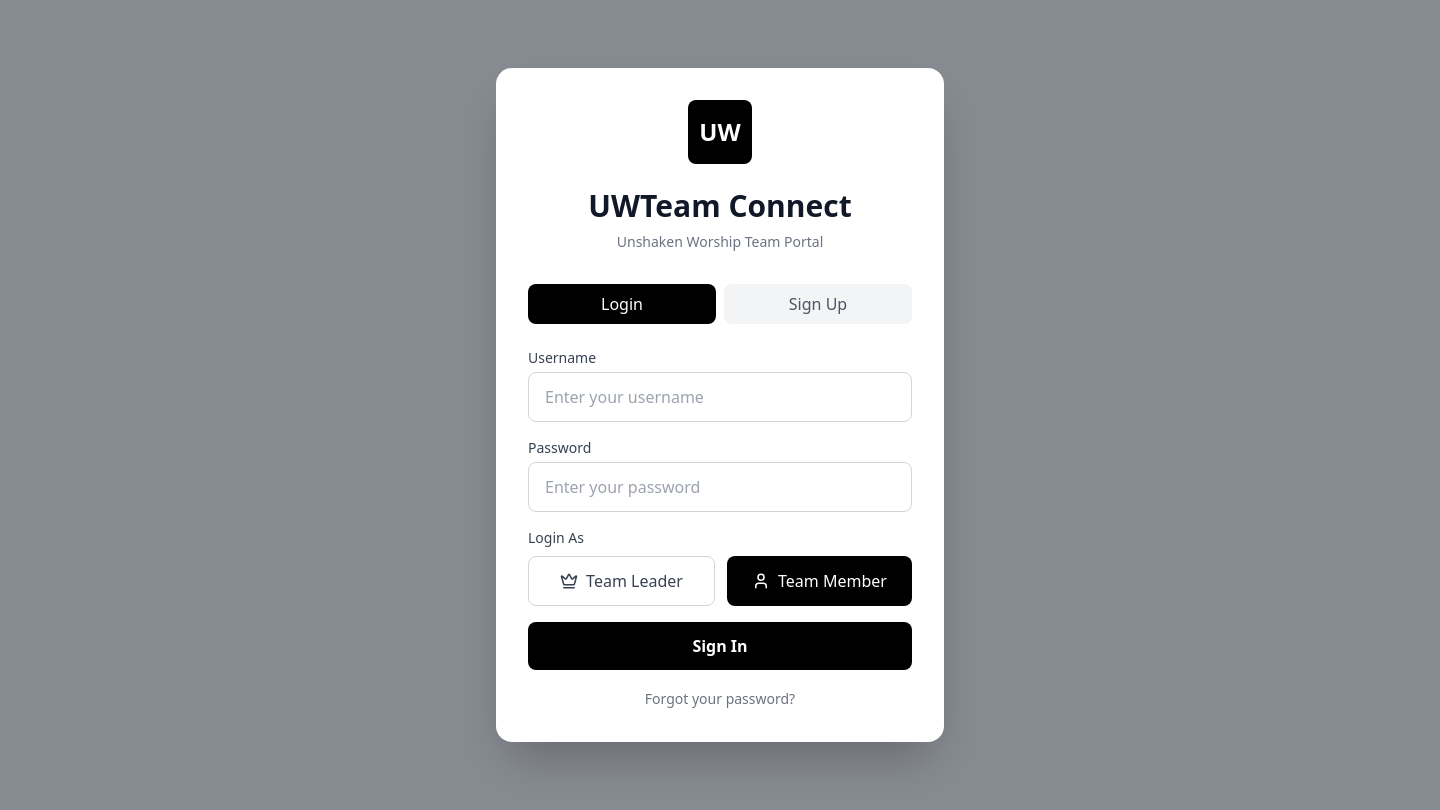
Test case: Login component – tab switching › switches to Create Account button when Sign Up tab is clicked
Click the button "Sign Up": (818, 304) [724,284,912,324]
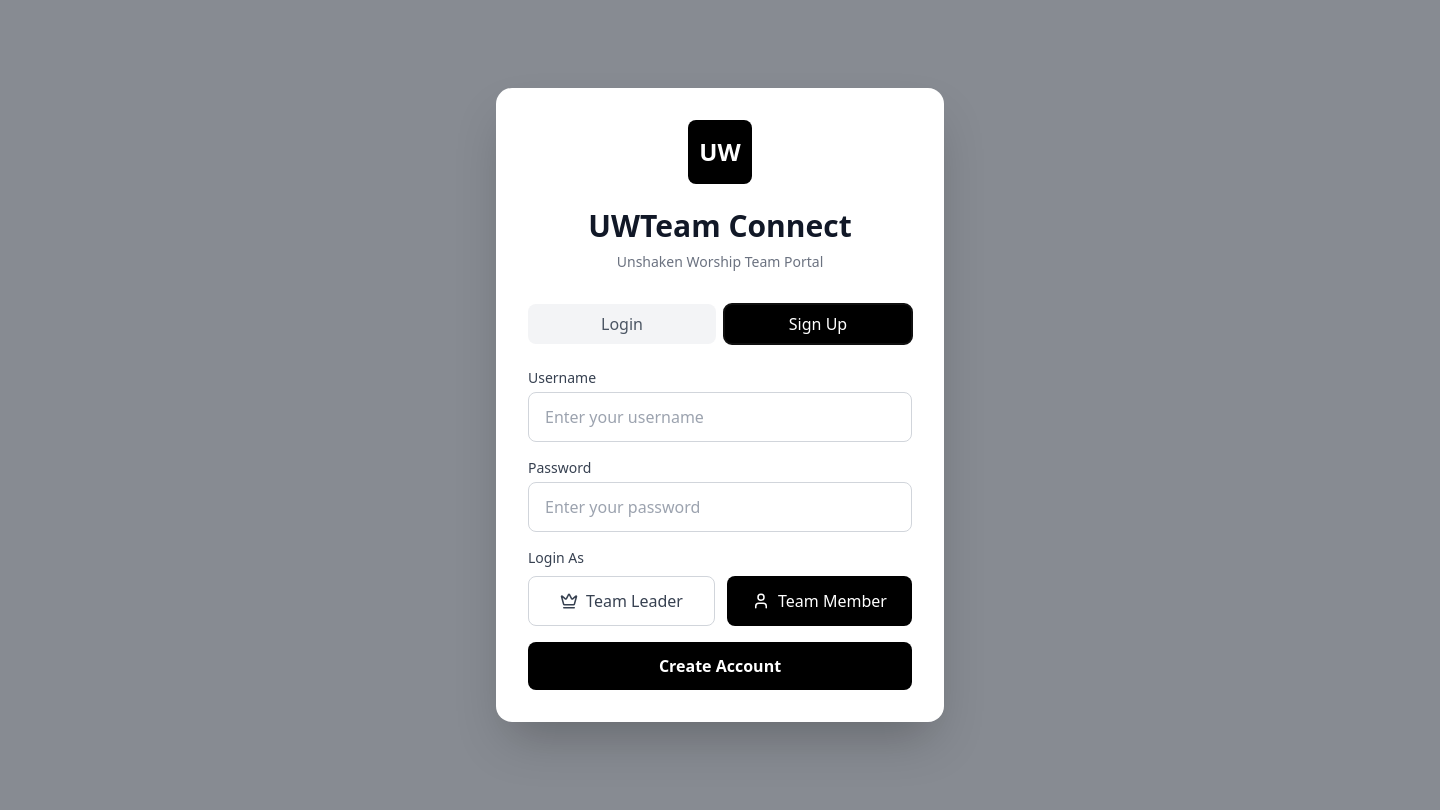
Result: the button "Create Account" is shown at [528,642,912,690]
